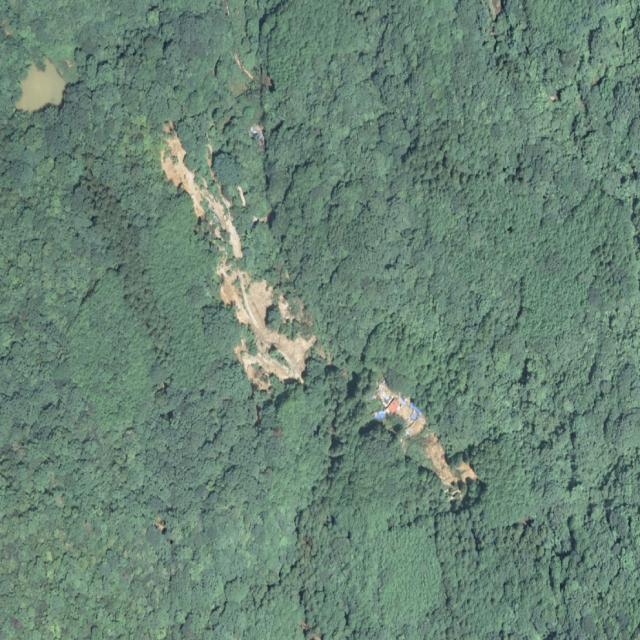landslide: (160, 121, 316, 391), (407, 432, 476, 492)
